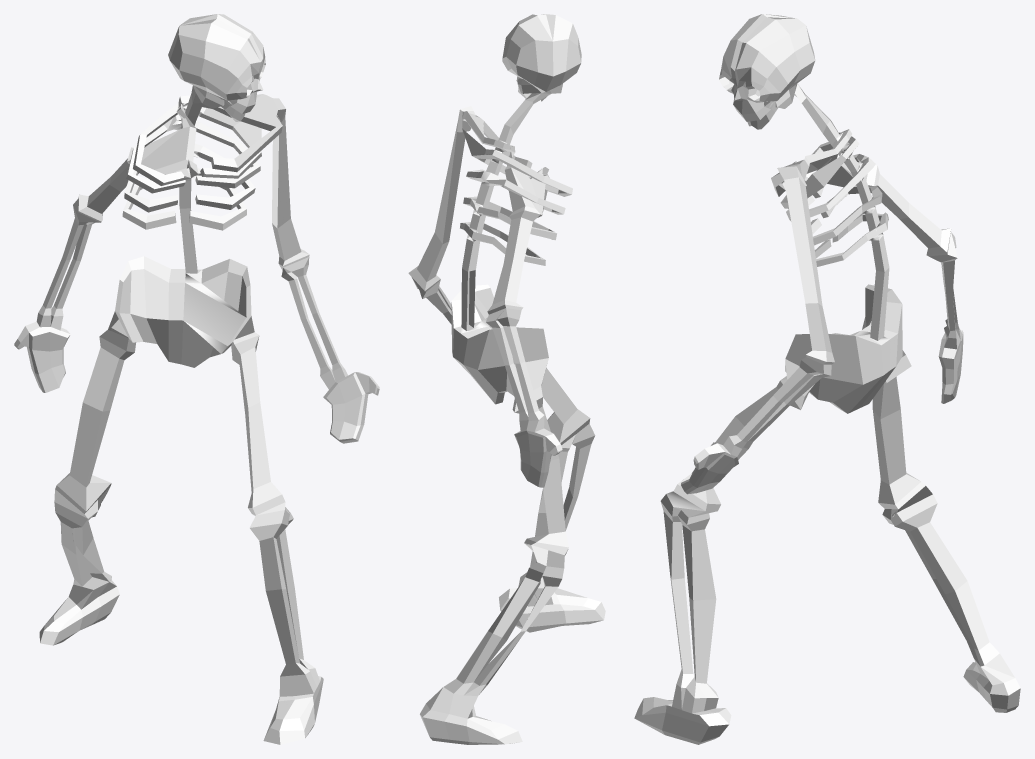
Rendered from SkeletonIdle(20).obj.
3 views of the same model, side by side, from view 1: azimuth 30°, elevation 25°; view 2: azimuth 150°, elevation 25°; view 3: azimuth 270°, elevation 25° (orthographic). The views are drawn at different scales.
Visible parts, largest first — view 1: Object002; view 2: Object002; view 3: Object002.
Boxes of the visible parts, left/top/right/bottom form: Object002: left=14, top=14, right=379, bottom=744; Object002: left=408, top=14, right=605, bottom=744; Object002: left=634, top=14, right=1020, bottom=744.
Bounding box in the file's own units: 407 × 1120 × 564.
